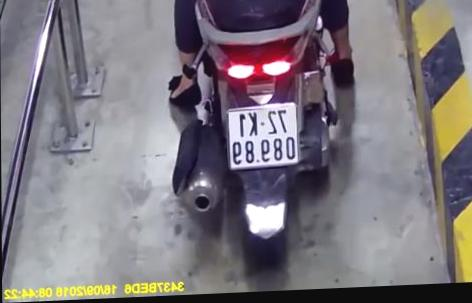License_Plate: (223, 98, 307, 176)
